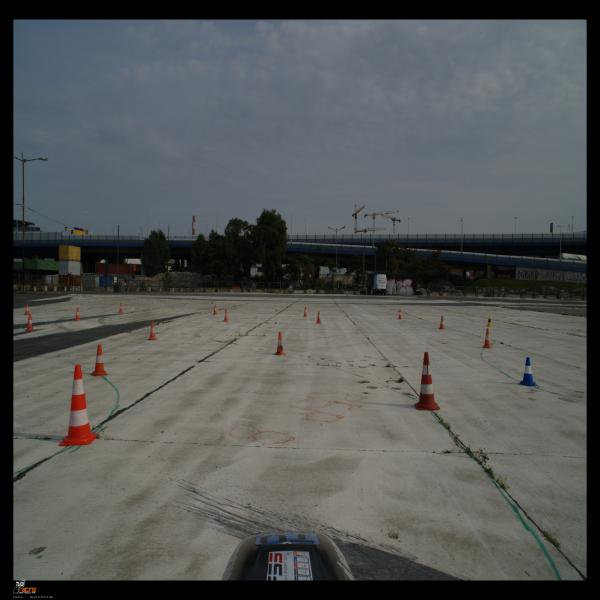blue_cone: (518, 357, 538, 387)
large_orange_cone: (58, 365, 98, 446), (414, 352, 440, 410)
orange_cone: (90, 344, 108, 376), (273, 332, 286, 355), (481, 328, 493, 349), (147, 321, 158, 340), (26, 314, 34, 331), (74, 308, 82, 320), (439, 315, 445, 330), (223, 309, 229, 322), (316, 311, 322, 324), (24, 303, 30, 315), (118, 302, 124, 312), (303, 306, 308, 317), (212, 305, 218, 314), (398, 309, 402, 319)
yellow_cone: (486, 316, 493, 327)
